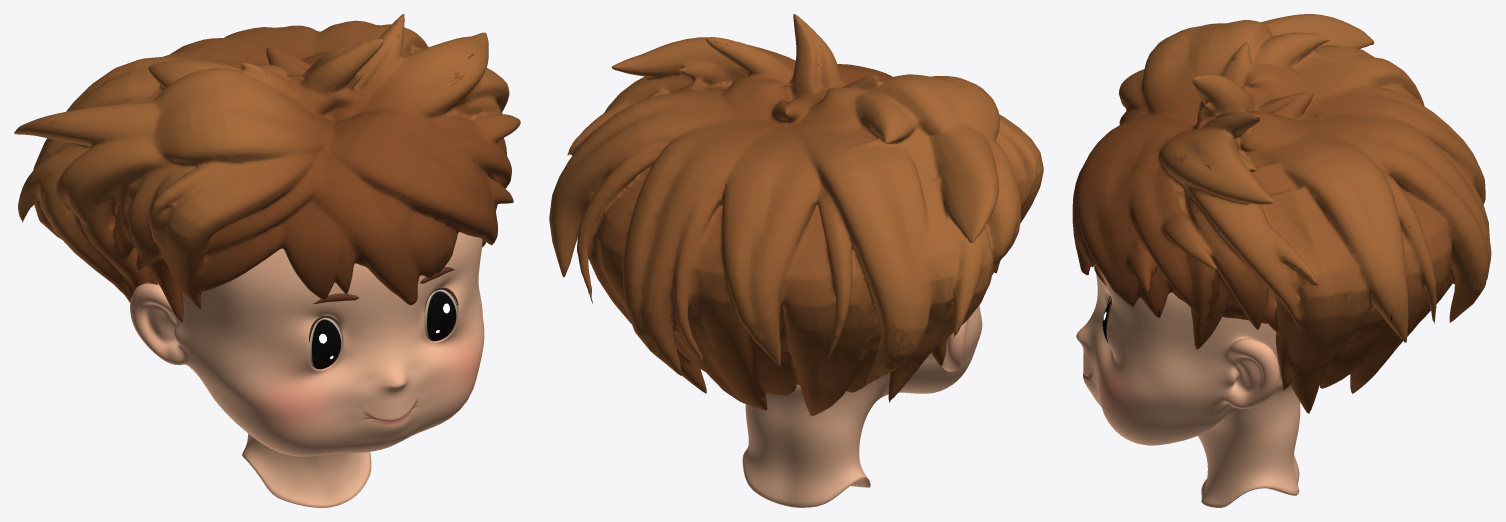
The model's file is head_candidate_v011.glb.
3 views of the same model, side by side, from view 1: azimuth 30°, elevation 25°; view 2: azimuth 150°, elevation 25°; view 3: azimuth 270°, elevation 25° (orthographic). The views are drawn at different scales.
Visible parts, largest first — view 1: SCULPT_HAIR, SCULPT_HEAD, SCULPT_EYE_L, SCULPT_EYE_R; view 2: SCULPT_HAIR, SCULPT_HEAD; view 3: SCULPT_HAIR, SCULPT_HEAD.
Part boxes in pixels (x1,y1,x2,y2): SCULPT_HAIR: (14,14,520,321); SCULPT_HEAD: (130,232,484,507); SCULPT_EYE_L: (424,289,457,341); SCULPT_EYE_R: (309,317,342,369); SCULPT_HAIR: (549,14,1043,415); SCULPT_HEAD: (742,305,982,507); SCULPT_HAIR: (1072,14,1491,413); SCULPT_HEAD: (1076,264,1300,507).
Bounding box in the file's own units: 0.4761 × 0.4726 × 0.4073.
Materials: 5 (3 with a texture image).
